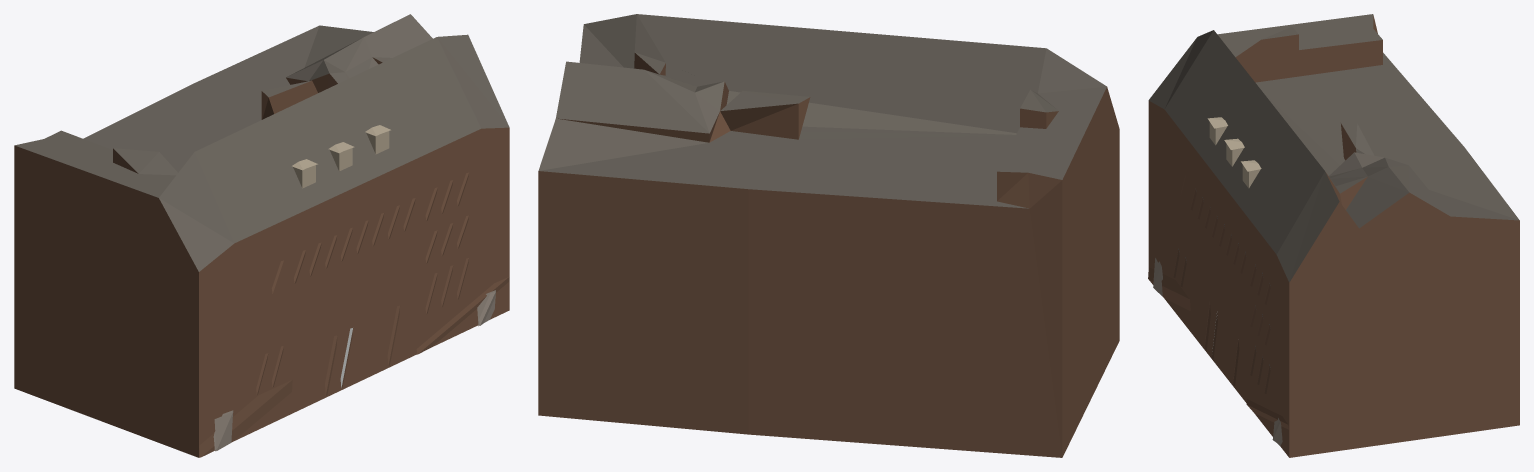
Rendered from sarphatistraat-47.lod2.glb.
3 renders of one model, left to right at view 1: azimuth 30°, elevation 25°; view 2: azimuth 150°, elevation 25°; view 3: azimuth 270°, elevation 25°, orthographic. The views are drawn at different scales.
Parts seen in each view (by area): view 1: lod2; view 2: lod2; view 3: lod2.
Boxes of the visible parts, left/top/right/bottom form: lod2: left=14, top=14, right=509, bottom=457; lod2: left=538, top=14, right=1119, bottom=457; lod2: left=1148, top=14, right=1519, bottom=457.
Bounding box in the file's own units: 41.25 × 23.91 × 30.71.
